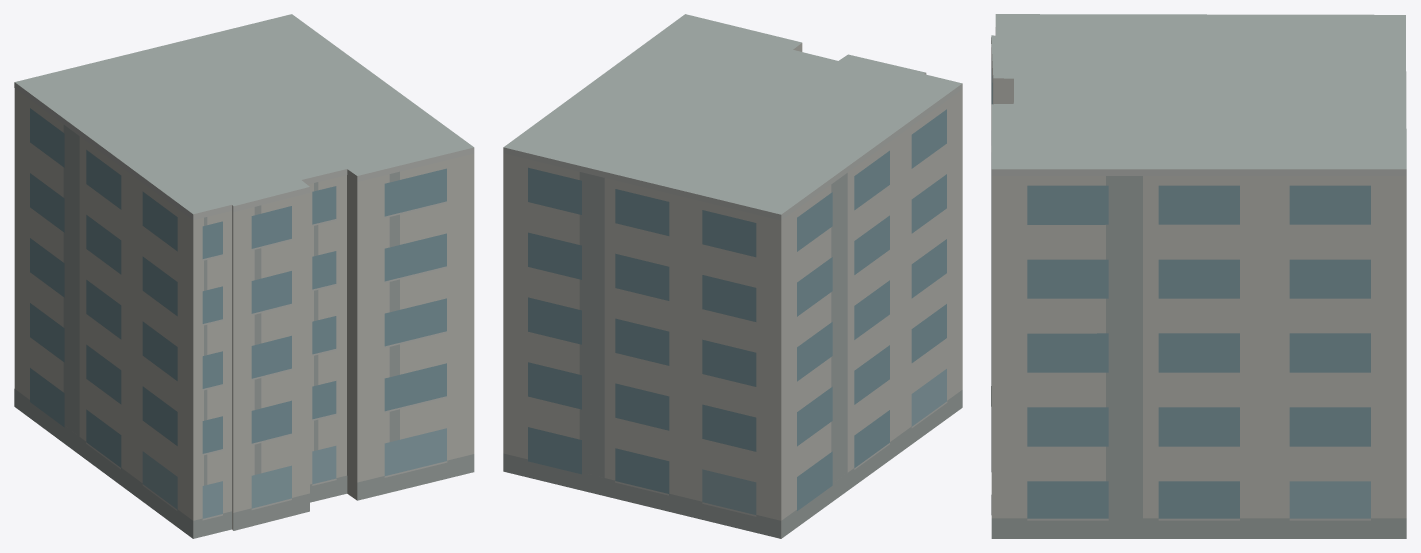
File: survey-upis-32841620.glb
3 renders of one model, left to right at view 1: azimuth 30°, elevation 25°; view 2: azimuth 150°, elevation 25°; view 3: azimuth 270°, elevation 25°, orthographic. The views are drawn at different scales.
Parts seen in each view (by area): view 1: survey-upis-32841620.tmp; view 2: survey-upis-32841620.tmp; view 3: survey-upis-32841620.tmp.
Boxes of the visible parts, x1,y1,x2,y2 form: survey-upis-32841620.tmp: (14, 14, 474, 538); survey-upis-32841620.tmp: (503, 14, 962, 538); survey-upis-32841620.tmp: (991, 14, 1406, 538).
Size of the model in its own units: 11.91 by 13.2 by 13.46.
